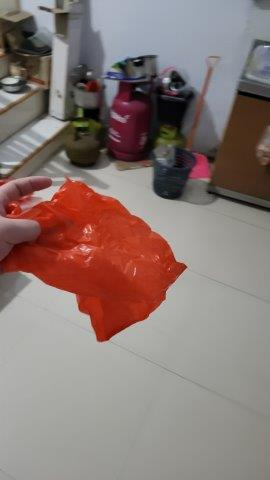plastik: (1, 179, 188, 345)
